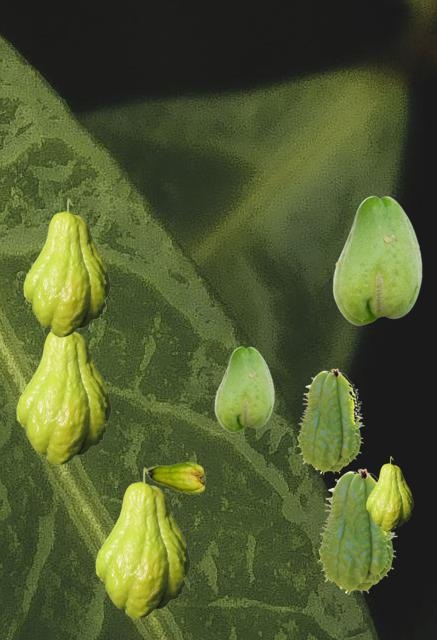sayote: (95, 467, 189, 618), (16, 331, 110, 464), (23, 198, 109, 336), (332, 195, 421, 324), (317, 468, 396, 594), (296, 368, 363, 474), (214, 346, 273, 431), (366, 456, 412, 530), (145, 462, 204, 493)
